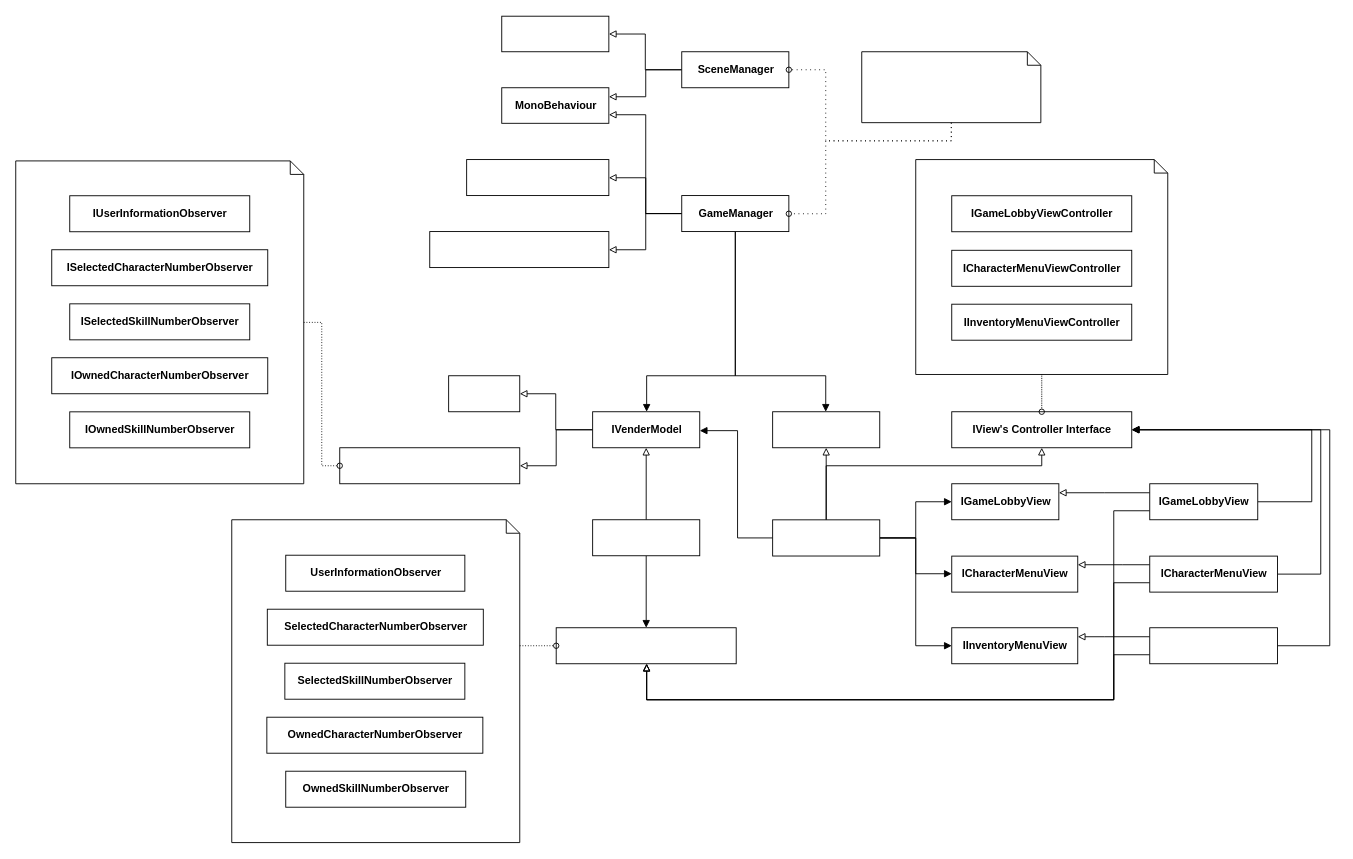
The diagram is 1353 pixels wide and 859 high, and some of its shapes have lost their labels. Here are the shapes that lost their labels. From the top down, the box of each, then its label:
(501, 15, 609, 52): ISceneManager
(861, 51, 1041, 123): - MonoBehevior 상속 - Awake로 시작 - Singleton 기능 - GameObject 내에 존재.
(466, 159, 609, 196): IGameManagerForModel
(429, 231, 609, 268): IGameManagerForSceneManager
(448, 375, 520, 412): IModel
(772, 411, 880, 448): IVenderController
(339, 447, 520, 484): IUserModel's Observers
(592, 519, 700, 556): VenderModel
(772, 519, 880, 556): VenderController
(555, 627, 736, 664): UserModel's Observer Interface
(1149, 627, 1278, 664): InventoryMenuView
